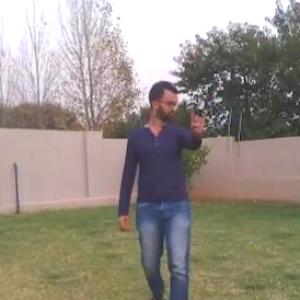takeoff-hand: (187, 94, 215, 140)
